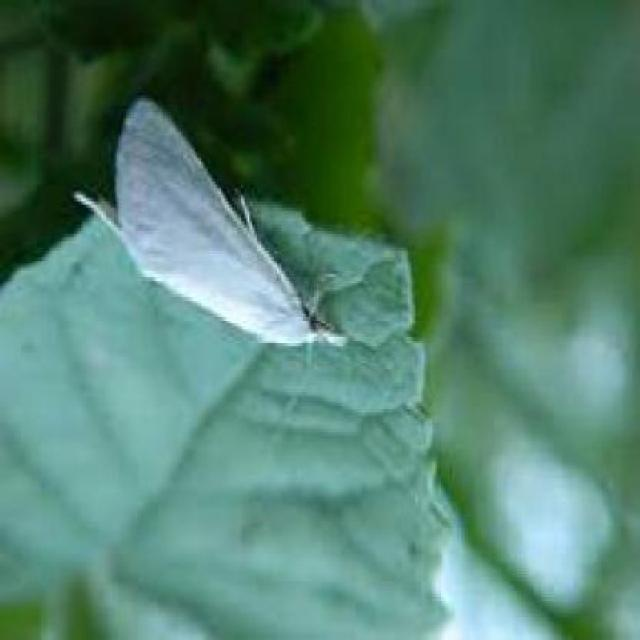stem-borer: (69, 91, 351, 358)
